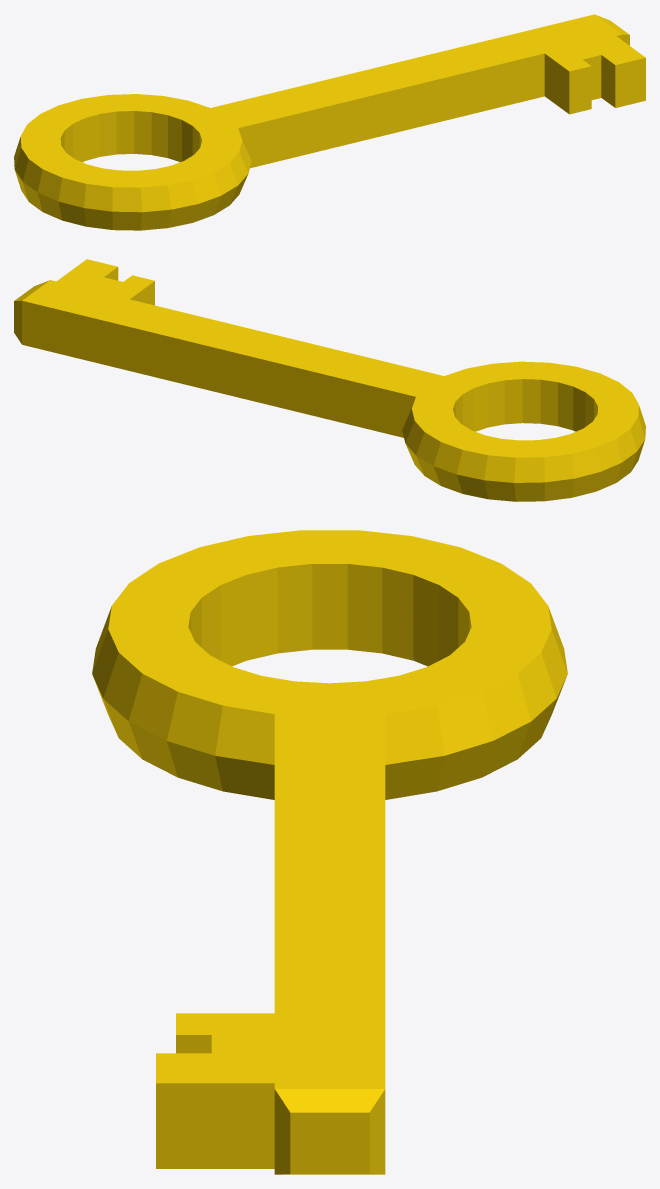
The picture shows the model from 3 angles, top to bottom: view 1: azimuth 30°, elevation 25°; view 2: azimuth 150°, elevation 25°; view 3: azimuth 270°, elevation 25°; orthographic projection. The views are drawn at different scales.
Parts seen in each view (by area): view 1: Cylinder.080; view 2: Cylinder.080; view 3: Cylinder.080.
Part boxes in pixels (x1,y1,x2,y2): Cylinder.080: (14, 14, 645, 230); Cylinder.080: (14, 259, 645, 501); Cylinder.080: (92, 530, 567, 1174).
Size of the model in its own units: 14.63 by 1.02 by 5.11.
